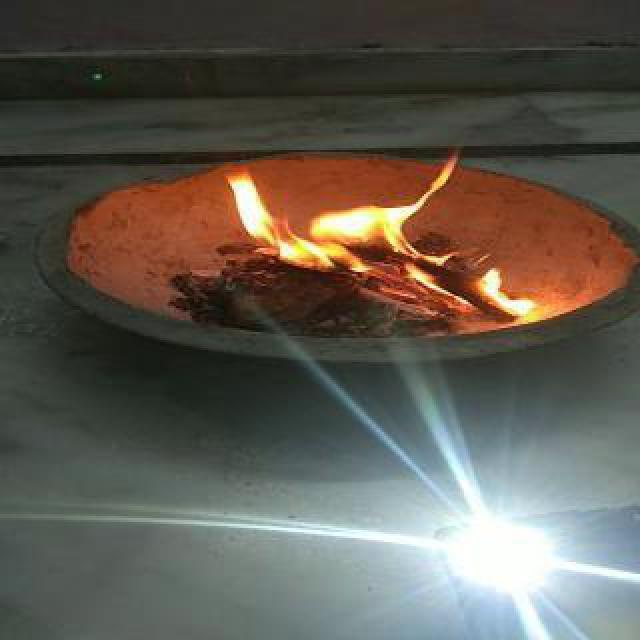Fire: (226, 150, 540, 320)
